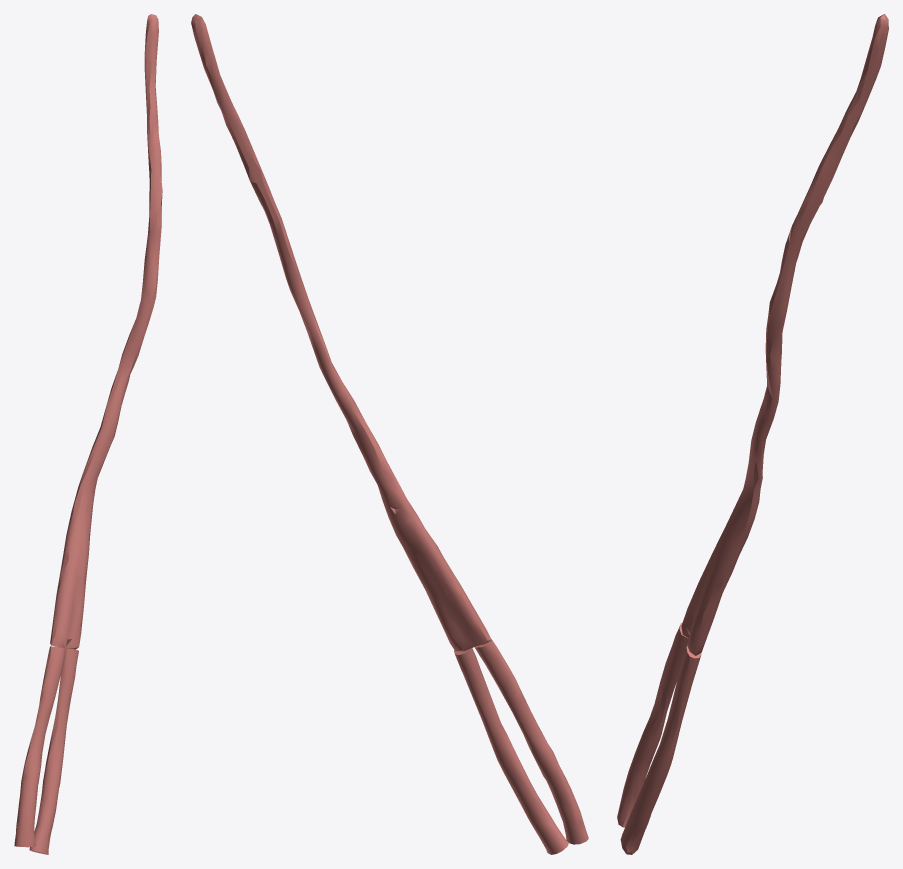
Rendered from fma42553_mm1965.glb.
3 renders of one model, left to right at view 1: azimuth 30°, elevation 25°; view 2: azimuth 150°, elevation 25°; view 3: azimuth 270°, elevation 25°, orthographic. The views are drawn at different scales.
Parts seen in each view (by area): view 1: FMA42553_MM1965; view 2: FMA42553_MM1965; view 3: FMA42553_MM1965.
Part boxes in pixels (x1,y1,x2,y2): FMA42553_MM1965: (14,14,162,854); FMA42553_MM1965: (191,14,588,854); FMA42553_MM1965: (617,14,888,854).
Size of the model in its own units: 0.0661 by 0.1923 by 0.0488.
